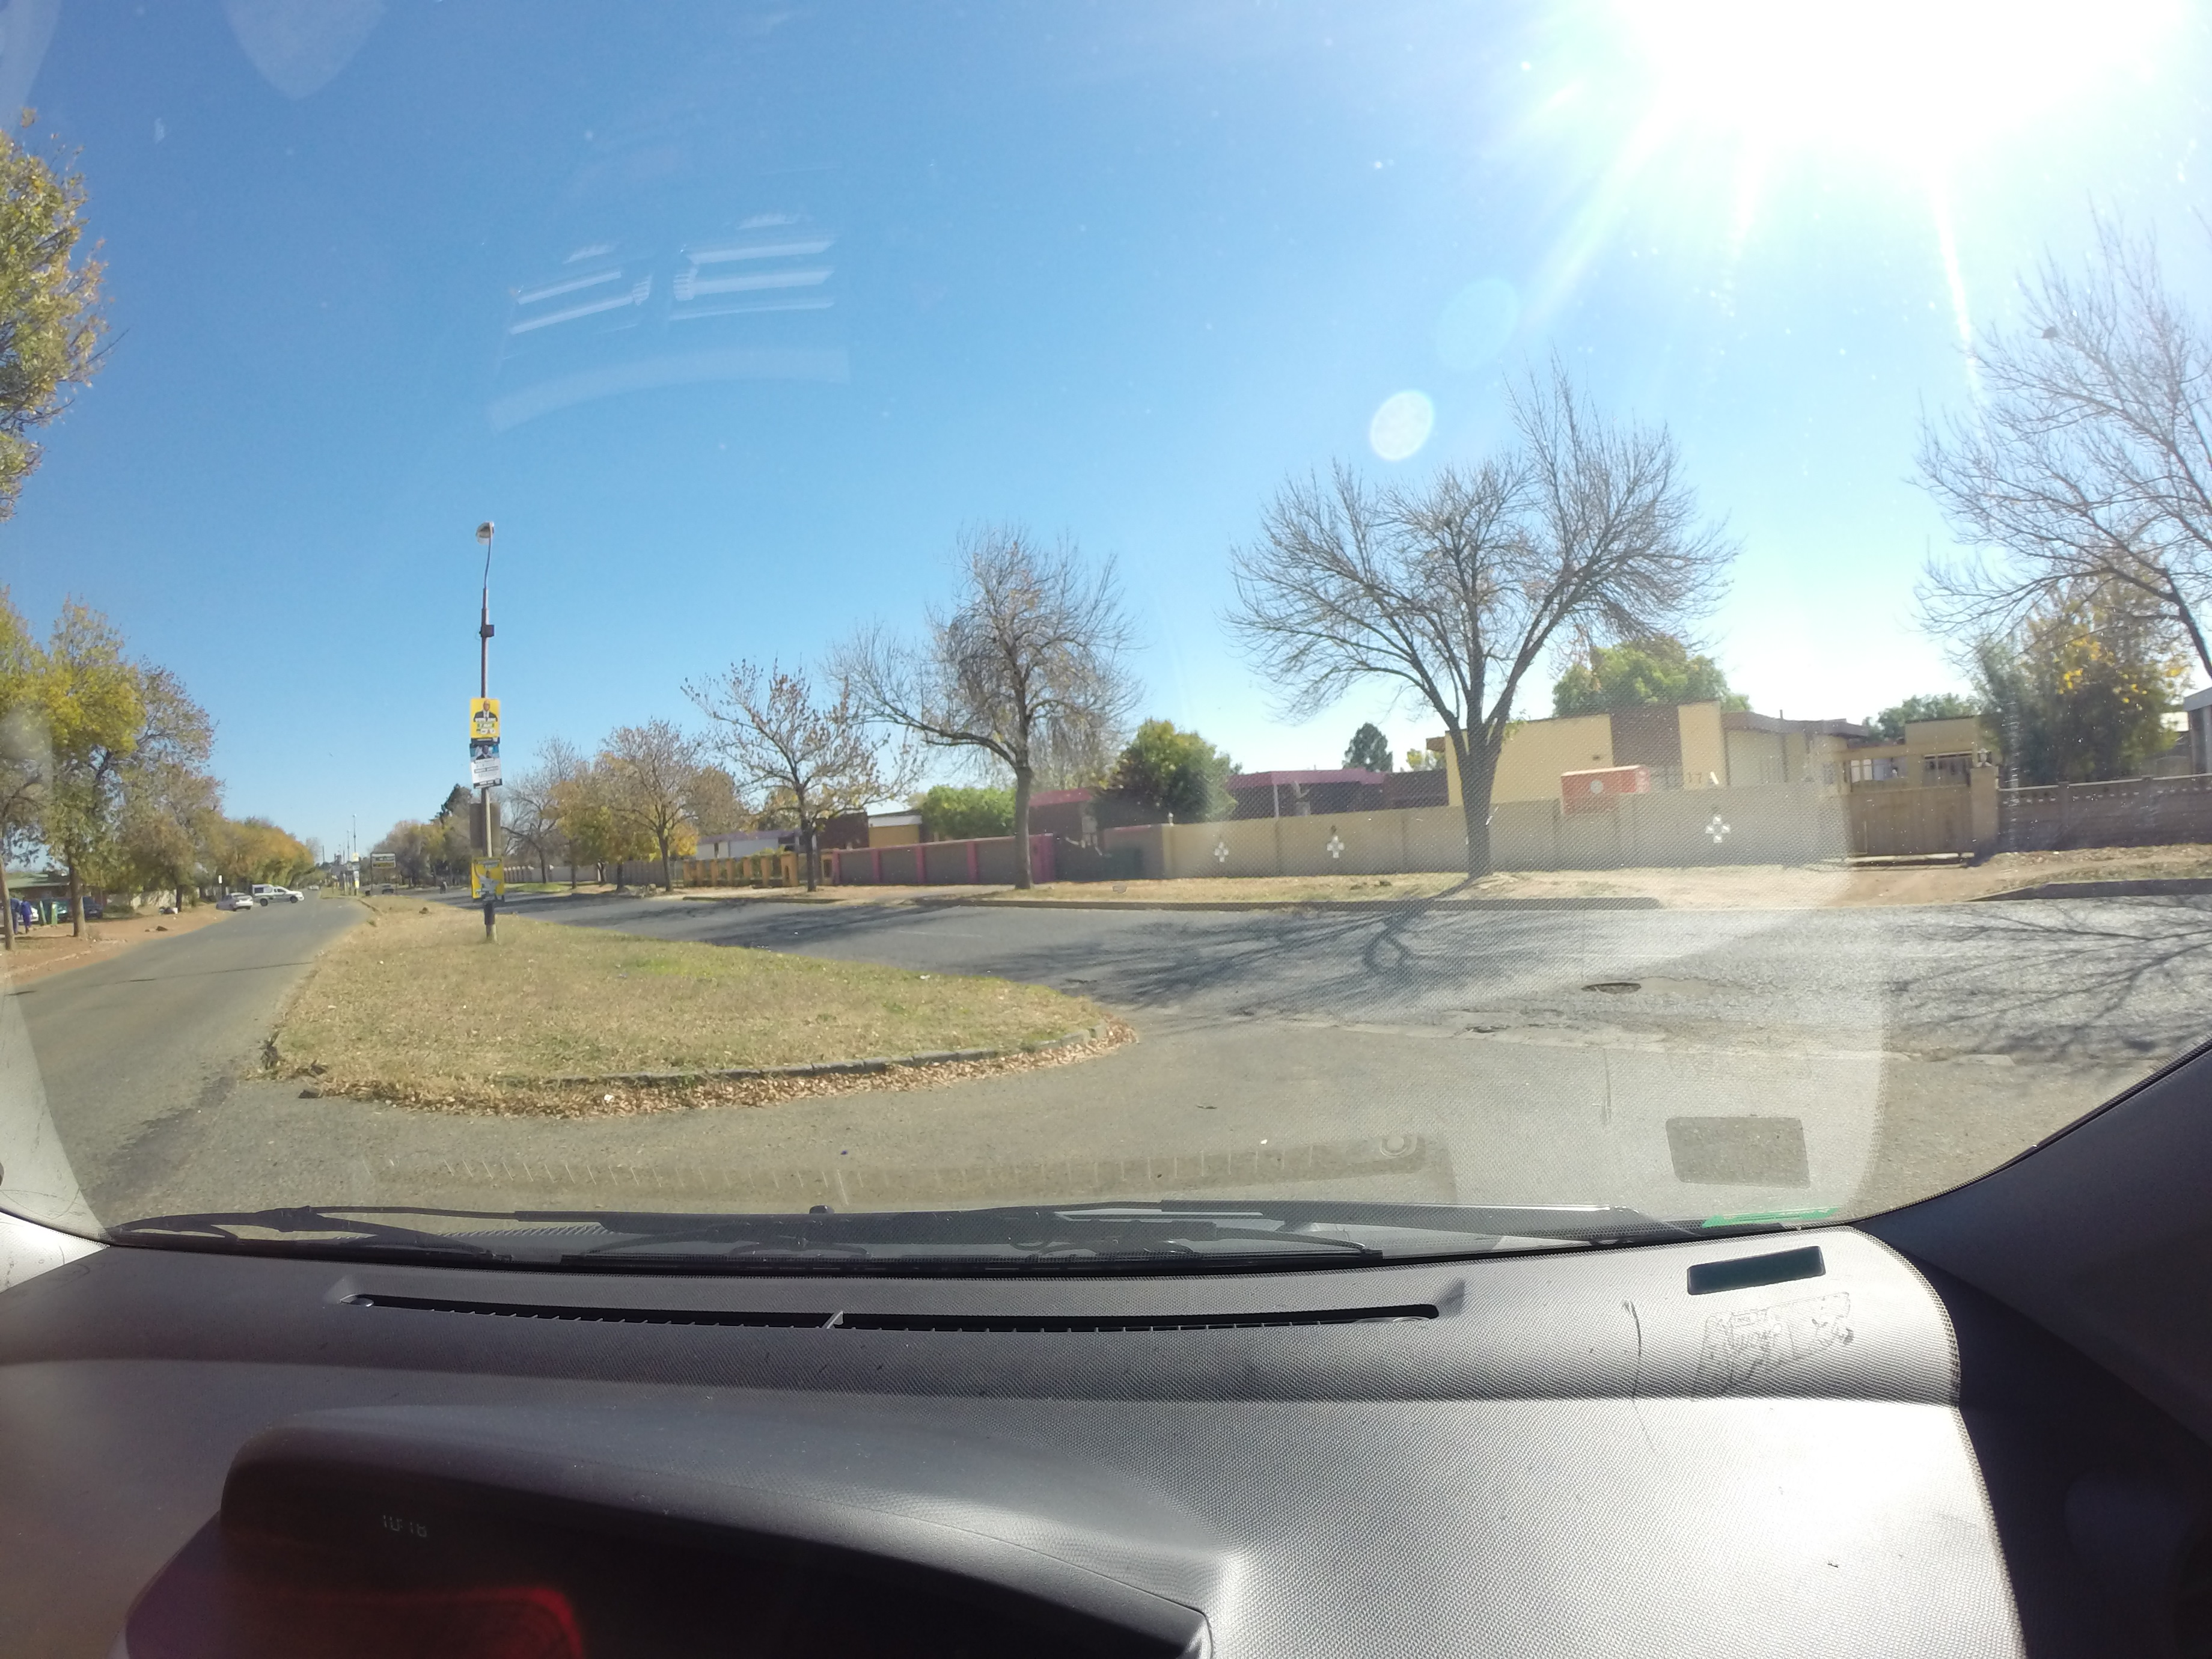pothole: (1540, 939, 1768, 1032)
